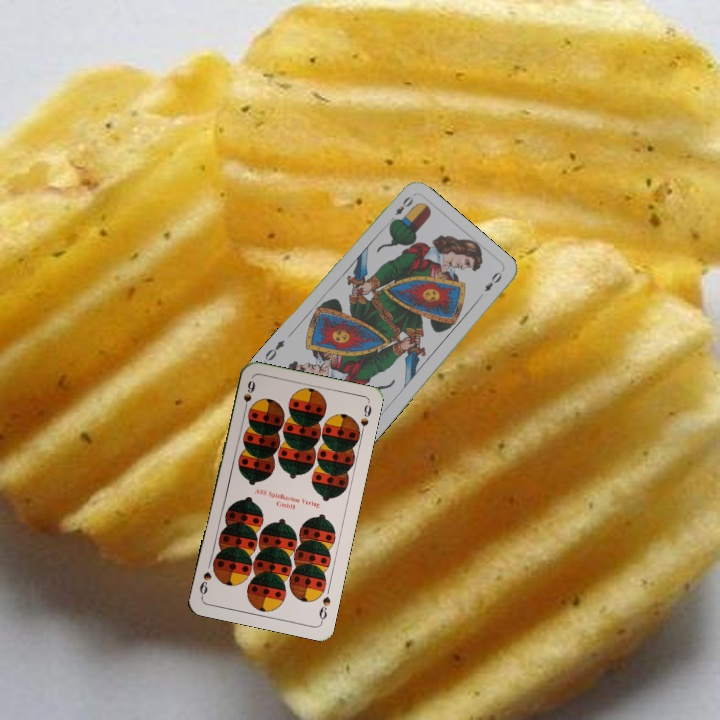EO: (385, 192, 416, 226)
S9: (239, 376, 258, 416), (315, 592, 333, 625)
